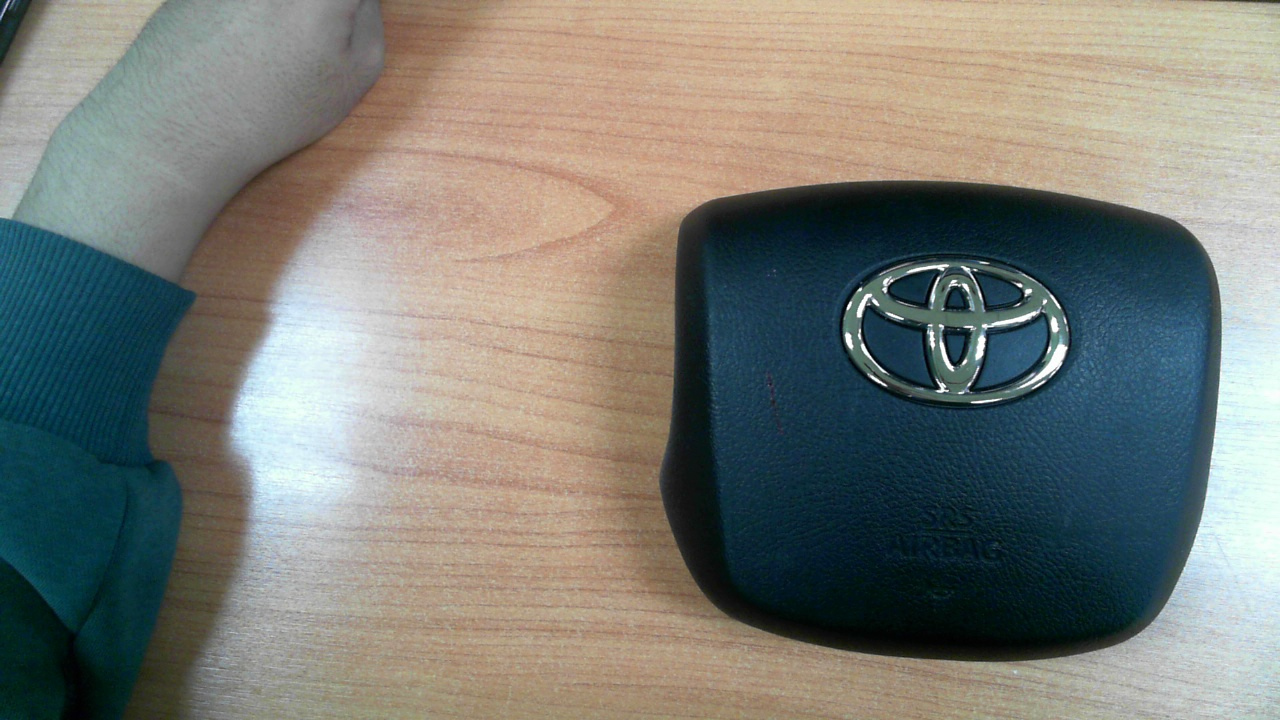Airbag: (661, 186, 1223, 657)
Toyota: (842, 253, 1070, 405)
